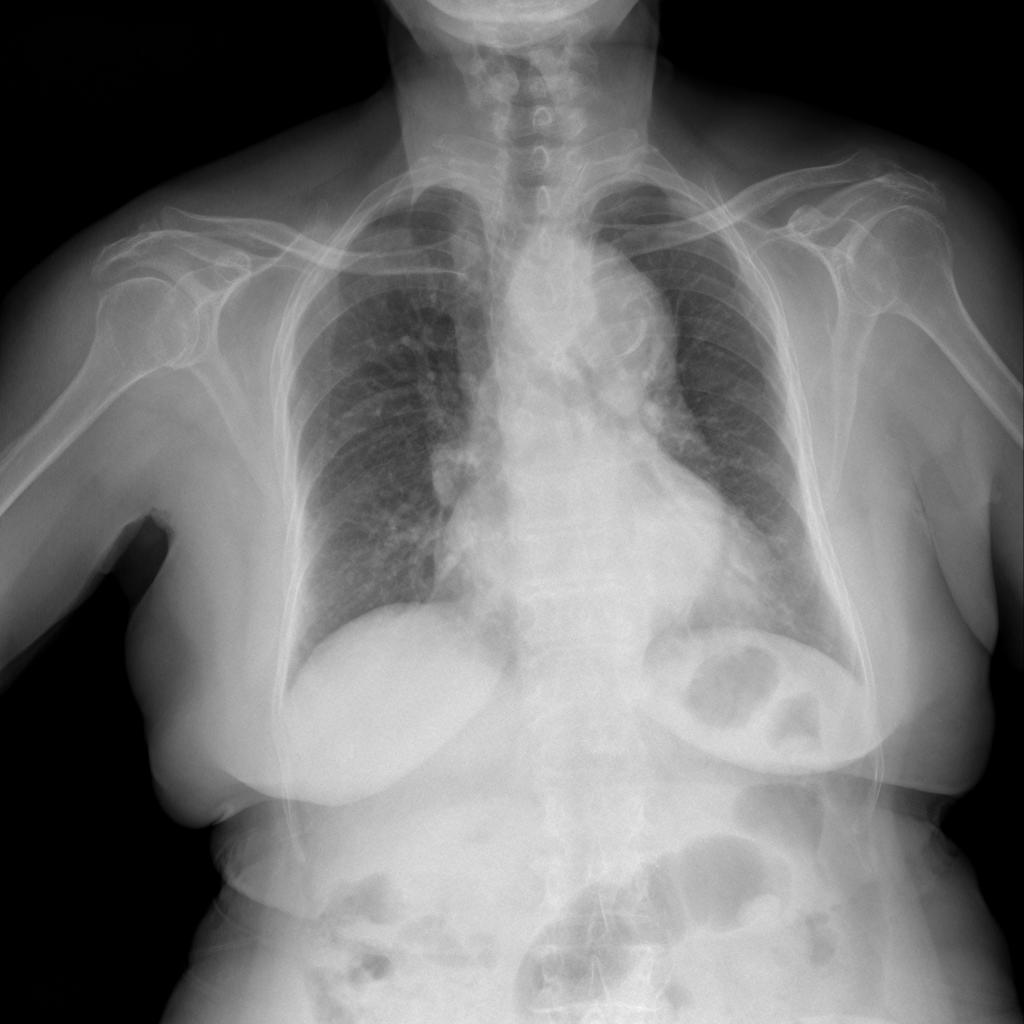Nodule: (486, 232, 607, 355), (592, 362, 643, 425)
